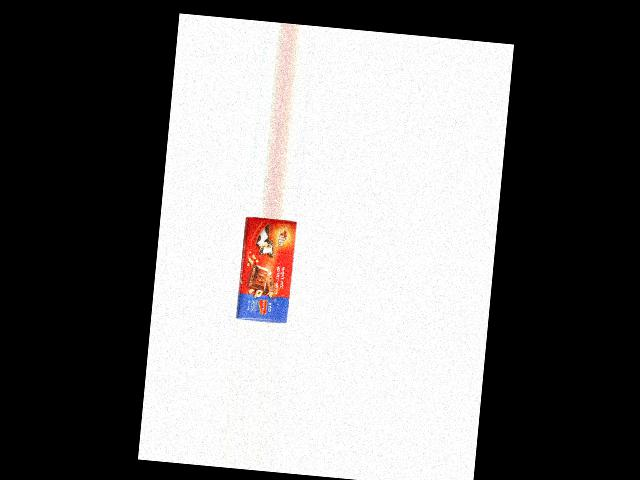chocolate: (231, 216, 295, 322)
